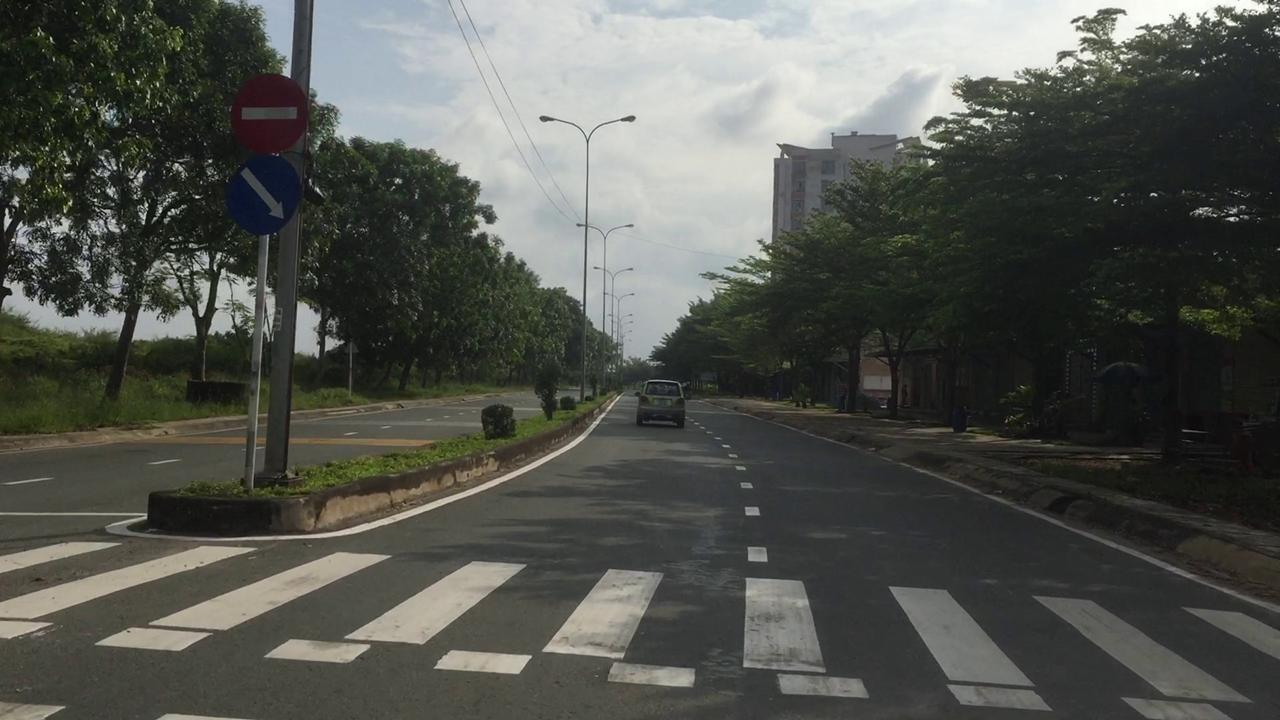DP.135: (224, 71, 310, 152)
P.130: (226, 155, 306, 235)
